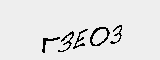Г: (37, 35, 59, 54)
Е: (71, 27, 86, 50)
З: (109, 22, 125, 46), (58, 31, 73, 54)
О: (88, 25, 109, 49)
